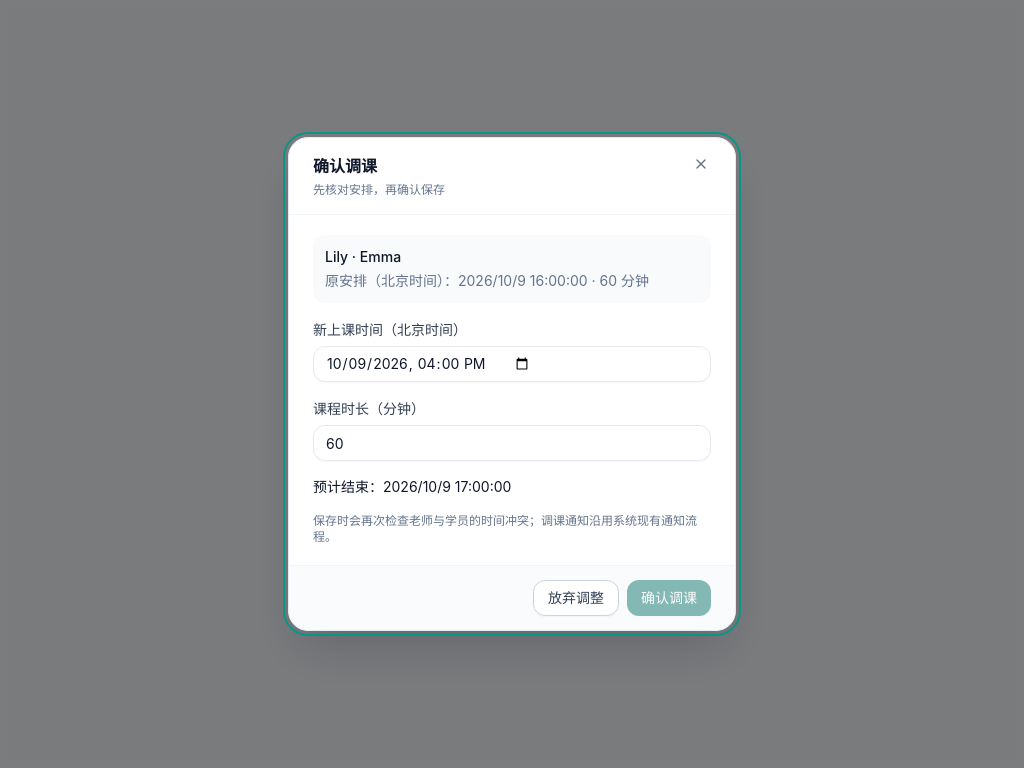
Test: 浏览器日期输入事件同步更新结束时间预览
Replace the text in the field labelled "新上课时间（北京时间）" with "2026-10-09T16:30". click: (512, 364)
box: [313,346,711,382]
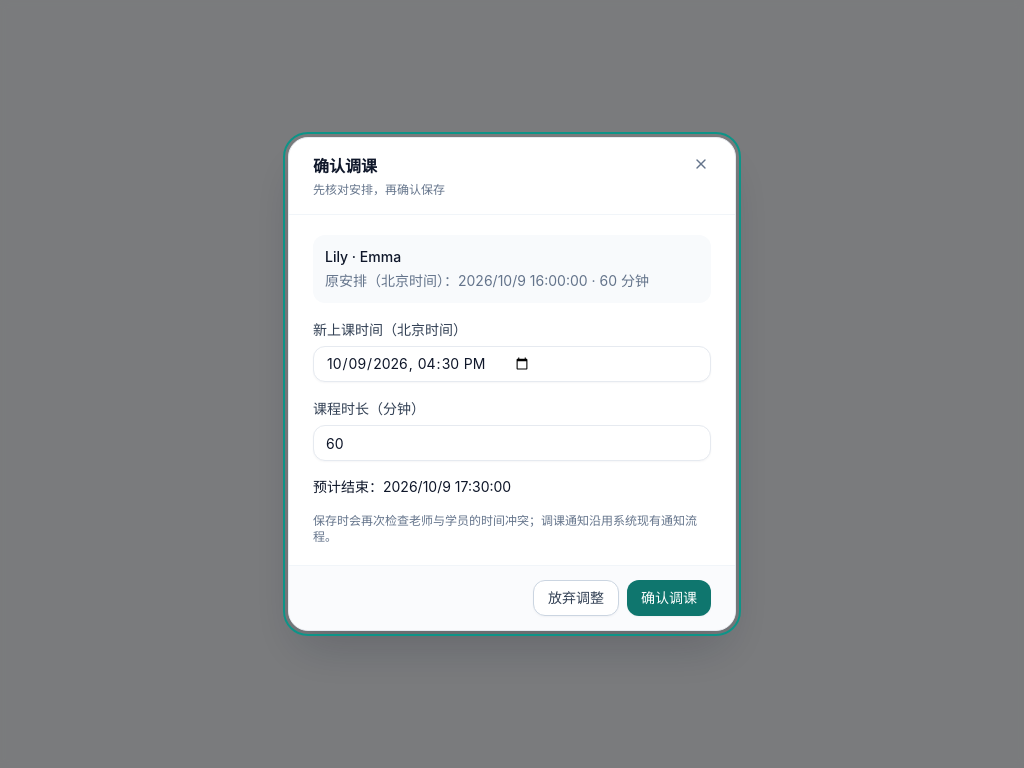
Now the text "预计结束：2026/10/9 17:30:00" is shown, box [313,478,511,495]
Now the button "确认调课" is enabled, box [627,580,711,616]
